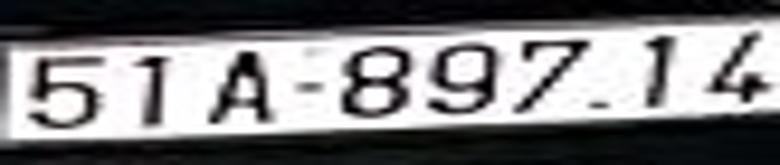-: (294, 82, 320, 93)
.: (592, 100, 605, 109)
1: (136, 56, 166, 129), (644, 35, 671, 105)
4: (708, 29, 767, 102)
5: (36, 56, 102, 128)
7: (515, 39, 584, 110)
8: (341, 47, 410, 117)
9: (429, 45, 498, 112)
A: (209, 51, 268, 124)
